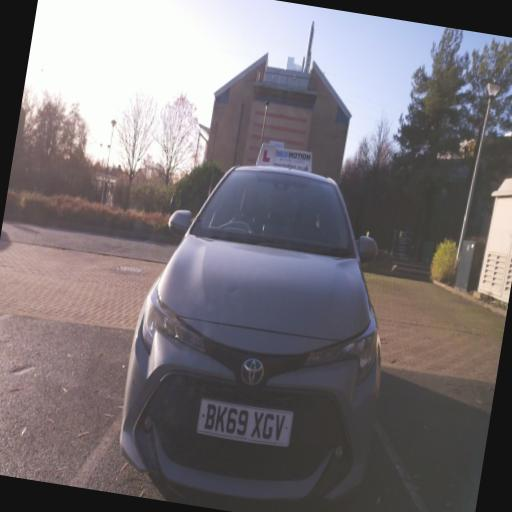numberplates: (197, 399, 292, 446)
